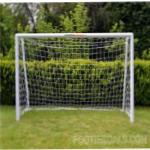goals: (11, 30, 137, 122)
